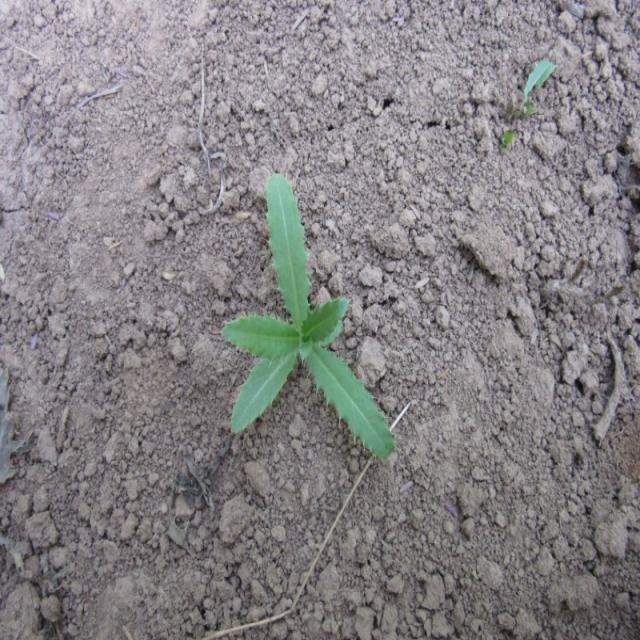field_thistle: (207, 156, 385, 455)
